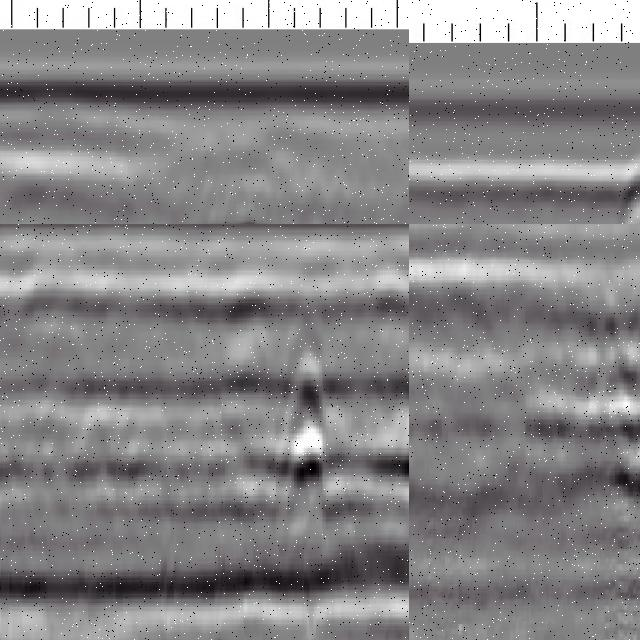loose: (252, 321, 410, 552), (560, 286, 640, 535)
